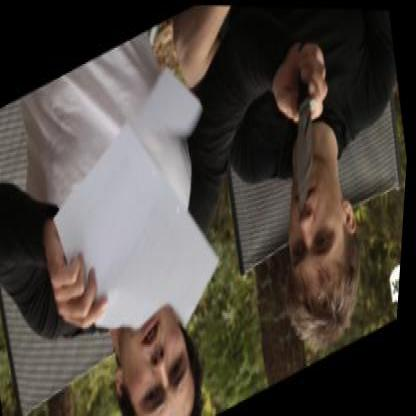knife: (266, 28, 344, 220)
